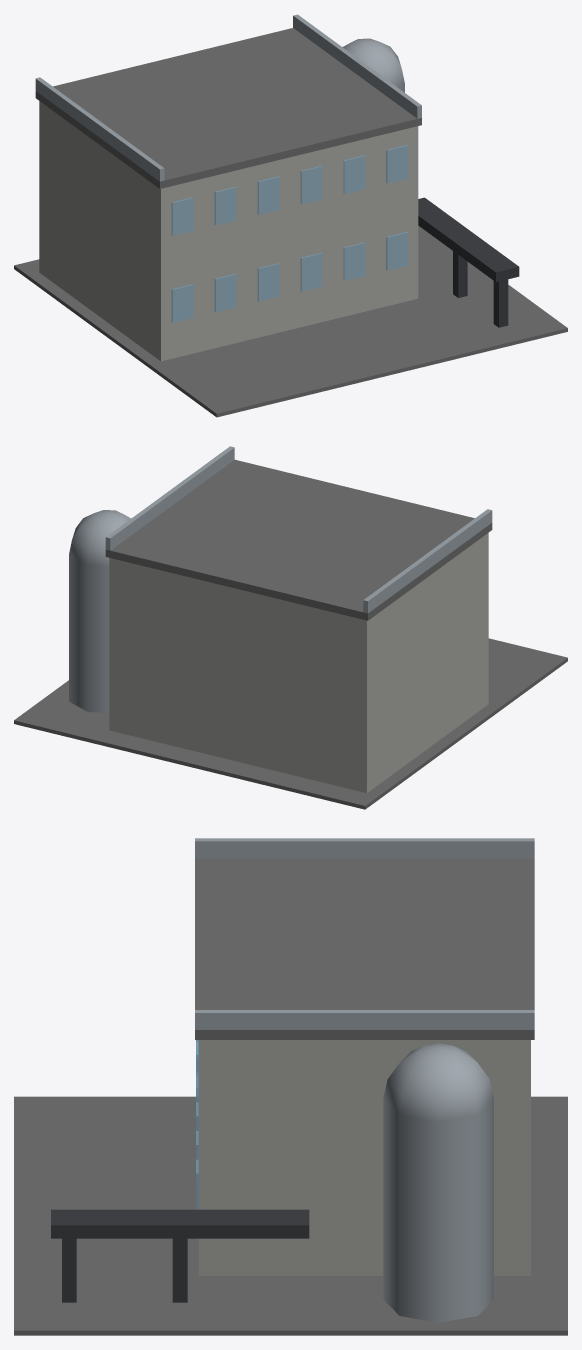
The model's file is bld_special_factory_a07_lod1.glb.
3 renders of one model, top to bottom at view 1: azimuth 30°, elevation 25°; view 2: azimuth 150°, elevation 25°; view 3: azimuth 270°, elevation 25°, orthographic. The views are drawn at different scales.
Parts seen in each view (by area): view 1: body; view 2: body; view 3: body.
Part boxes in pixels (x1,y1,x2,y2): body: (14, 14, 567, 417); body: (14, 446, 567, 809); body: (14, 838, 567, 1335).
Size of the model in its own units: 15 by 8.05 by 15.
